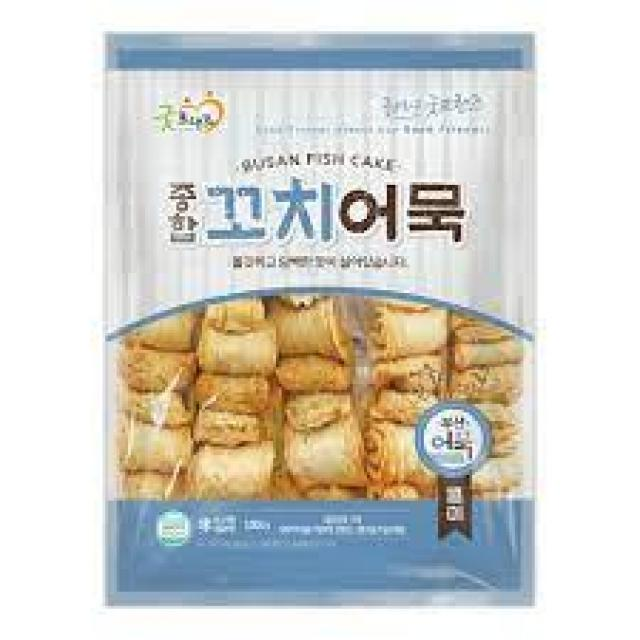fish_cake: (100, 26, 529, 603)
